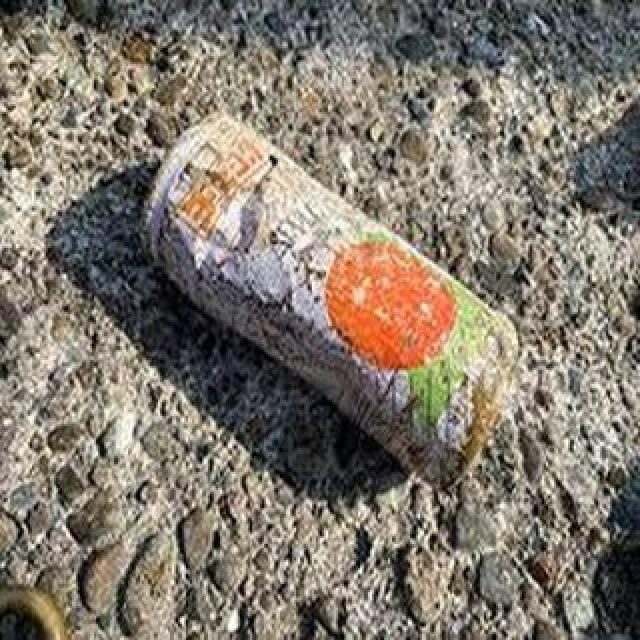can: (138, 110, 519, 492)
